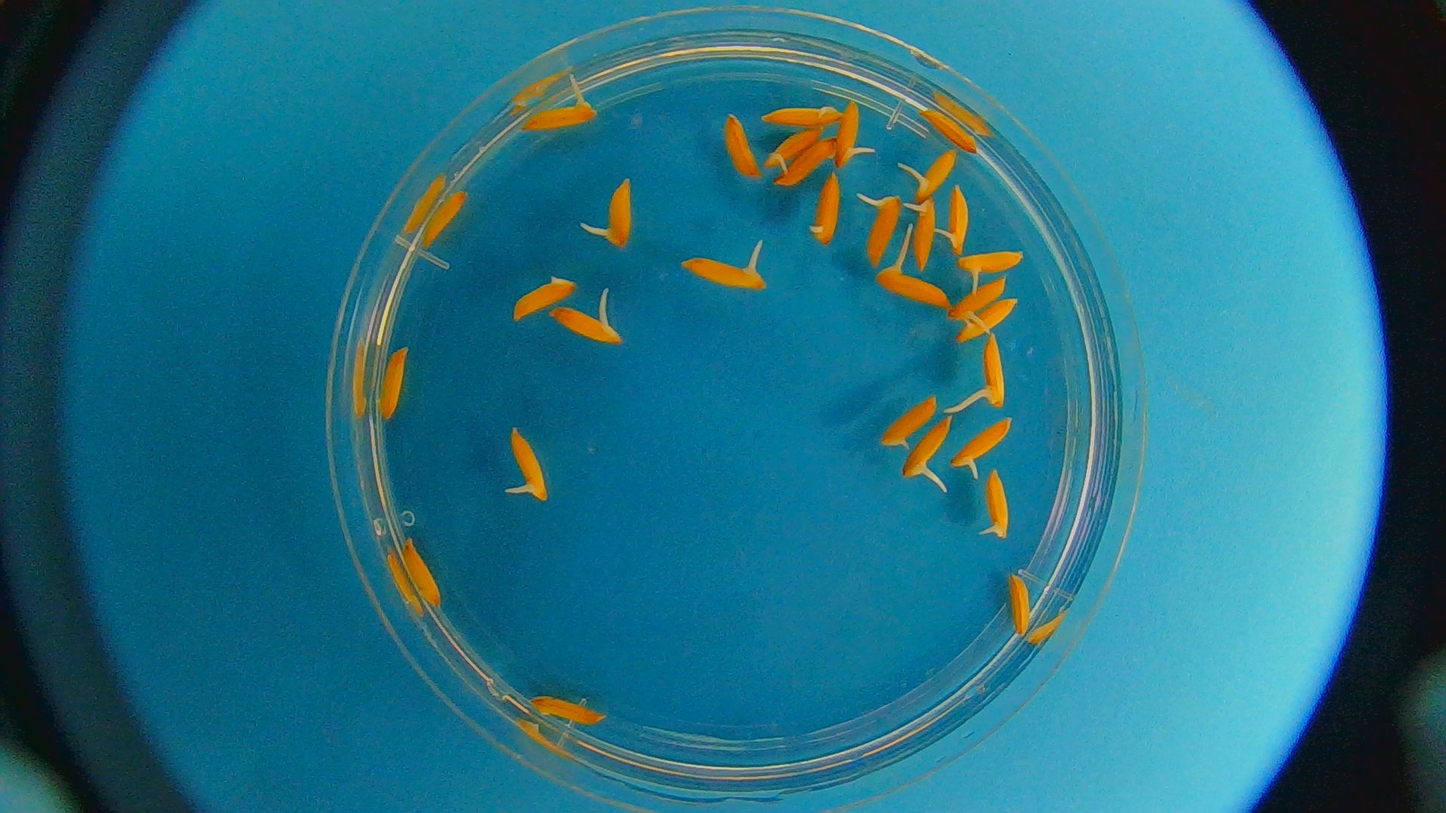no: (397, 531, 441, 615), (511, 274, 576, 322), (371, 346, 410, 421), (423, 190, 471, 249), (526, 694, 608, 727), (923, 108, 977, 155), (779, 139, 835, 184), (760, 102, 842, 129), (956, 302, 1018, 337), (725, 113, 757, 177), (1008, 571, 1034, 638)
yes: (876, 263, 955, 310), (953, 413, 1013, 469), (507, 425, 548, 504), (880, 394, 939, 448), (905, 418, 950, 477), (551, 306, 621, 343), (522, 99, 596, 134), (688, 257, 764, 291), (915, 145, 958, 203), (866, 190, 900, 262), (762, 125, 821, 166), (809, 175, 843, 245), (951, 279, 1010, 319), (981, 333, 1011, 408), (835, 101, 866, 169), (910, 198, 938, 273), (981, 467, 1010, 537), (603, 180, 631, 247), (955, 250, 1025, 276), (947, 184, 972, 248)
